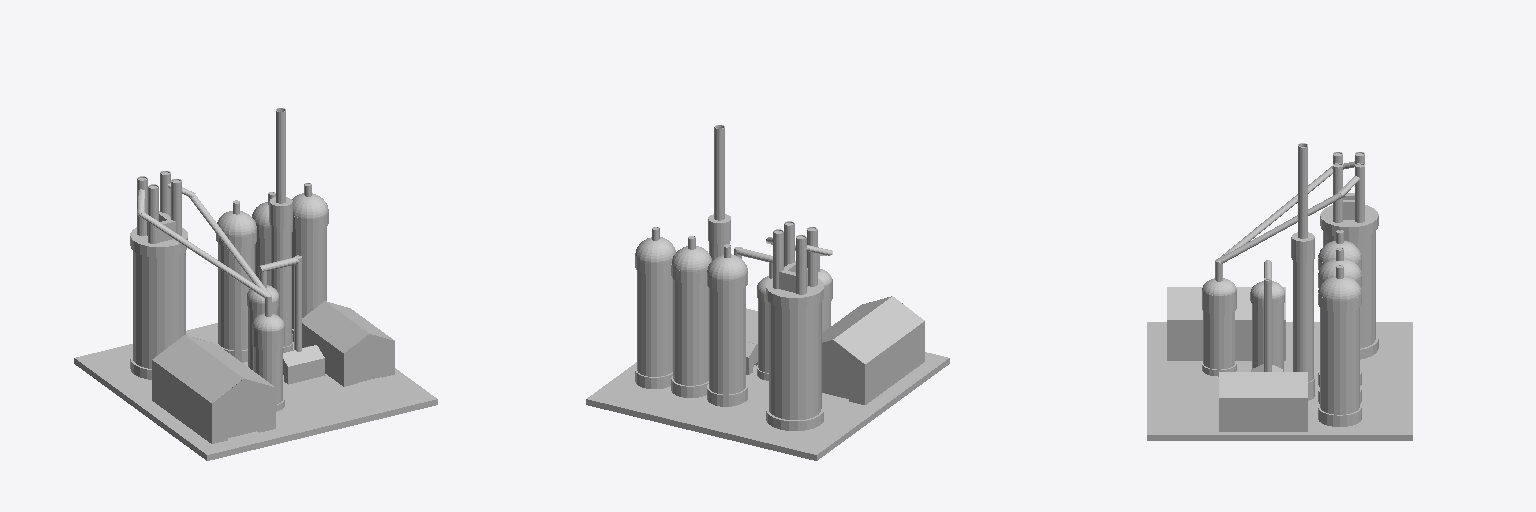
The model's file is Horno 2.obj.
3 renders of one model, left to right at view 1: azimuth 30°, elevation 25°; view 2: azimuth 150°, elevation 25°; view 3: azimuth 270°, elevation 25°, orthographic.
Visible parts, largest first — view 1: Floor, MainBuilding Sides1 MainBuilding1, FuelPipe FuelPipeMid1, Sides2 MainBuilding2, MainBuilding MainBuilding1 FrontAndBack1, CokeFuelPipe2 PipeMid2, CokeFuelPipe4 PipeMid4, MainBuilding2 FrontAndBack2, BigPipe PipeMid1, MainBuilding Sides1 MainBuilding3, CokeFuelPipe PipeMid5, FuelPipeTop1 FuelPipe (+9 smaller); view 2: Floor, MainBuilding Sides1 MainBuilding1, FuelPipe FuelPipeMid1, CokeFuelPipe2 PipeMid2, CokeFuelPipe4 PipeMid4, CokeFuelPipe3 PipeMid3, MainBuilding MainBuilding1 FrontAndBack1, TubeEnd1 PipeTube1, FuelPipeTop1 FuelPipe, CokeFuelPipe2 CylinderTop2, CokeFuelPipe4 CylinderTop4, CokeFuelPipe3 CylinderTop3 (+7 smaller); view 3: Floor, Sides2 MainBuilding2, CokeFuelPipe4 PipeMid4, MainBuilding Sides1 MainBuilding1, BigPipe PipeMid1, FuelPipe FuelPipeMid1, CokeFuelPipe PipeMid5, CokeFuelPipe PipeMid1, FuelPipeTop1 FuelPipe, TubeEnd1 PipeTube1, CokeFuelPipe4 CylinderTop4, CokeFuelPipe PipeEscapeTube6 (+8 smaller).
Part boxes in pixels (left/top/right/bottom): Floor: left=74, top=323, right=437, bottom=460; MainBuilding Sides1 MainBuilding1: left=152, top=335, right=274, bottom=443; FuelPipe FuelPipeMid1: left=133, top=251, right=185, bottom=368; Sides2 MainBuilding2: left=302, top=301, right=394, bottom=386; MainBuilding MainBuilding1 FrontAndBack1: left=152, top=335, right=275, bottom=443; CokeFuelPipe2 PipeMid2: left=218, top=243, right=254, bottom=350; CokeFuelPipe4 PipeMid4: left=292, top=227, right=326, bottom=328; MainBuilding2 FrontAndBack2: left=344, top=334, right=394, bottom=386; BigPipe PipeMid1: left=270, top=225, right=291, bottom=346; MainBuilding Sides1 MainBuilding3: left=283, top=345, right=324, bottom=384; CokeFuelPipe PipeMid5: left=253, top=346, right=282, bottom=404; FuelPipeTop1 FuelPipe: left=130, top=227, right=187, bottom=257; Floor: left=586, top=308, right=949, bottom=460; MainBuilding Sides1 MainBuilding1: left=822, top=296, right=924, bottom=404; FuelPipe FuelPipeMid1: left=769, top=302, right=821, bottom=419; CokeFuelPipe2 PipeMid2: left=709, top=287, right=745, bottom=394; CokeFuelPipe4 PipeMid4: left=637, top=270, right=672, bottom=376; CokeFuelPipe3 PipeMid3: left=673, top=279, right=708, bottom=385; MainBuilding MainBuilding1 FrontAndBack1: left=822, top=297, right=902, bottom=404; TubeEnd1 PipeTube1: left=714, top=125, right=724, bottom=220; FuelPipeTop1 FuelPipe: left=766, top=278, right=823, bottom=308; CokeFuelPipe2 CylinderTop2: left=707, top=254, right=747, bottom=281; CokeFuelPipe4 CylinderTop4: left=635, top=237, right=675, bottom=263; CokeFuelPipe3 CylinderTop3: left=672, top=246, right=711, bottom=272; Floor: left=1147, top=322, right=1412, bottom=440; Sides2 MainBuilding2: left=1219, top=372, right=1307, bottom=431; CokeFuelPipe4 PipeMid4: left=1320, top=308, right=1359, bottom=414; MainBuilding Sides1 MainBuilding1: left=1167, top=287, right=1285, bottom=360; BigPipe PipeMid1: left=1293, top=260, right=1313, bottom=381; FuelPipe FuelPipeMid1: left=1323, top=231, right=1375, bottom=348; CokeFuelPipe PipeMid5: left=1203, top=311, right=1234, bottom=369; CokeFuelPipe PipeMid1: left=1252, top=304, right=1283, bottom=371; FuelPipeTop1 FuelPipe: left=1320, top=205, right=1378, bottom=237; TubeEnd1 PipeTube1: left=1298, top=143, right=1307, bottom=238; CokeFuelPipe4 CylinderTop4: left=1318, top=276, right=1361, bottom=301; CokeFuelPipe PipeEscapeTube6: left=1218, top=193, right=1345, bottom=263.
Bounding box in the file's own units: 200 × 213 × 200.